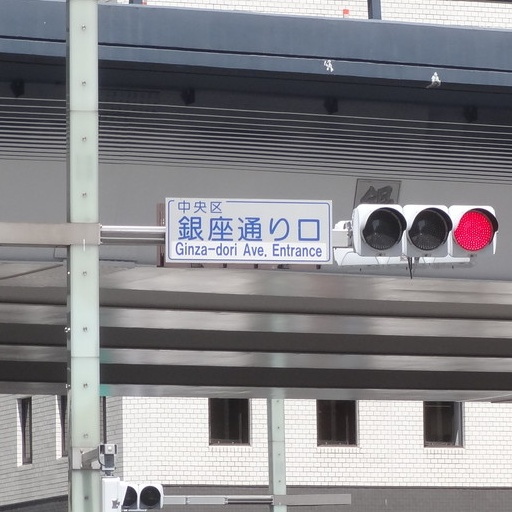Traffic_Signal_Red: (349, 197, 503, 267)
